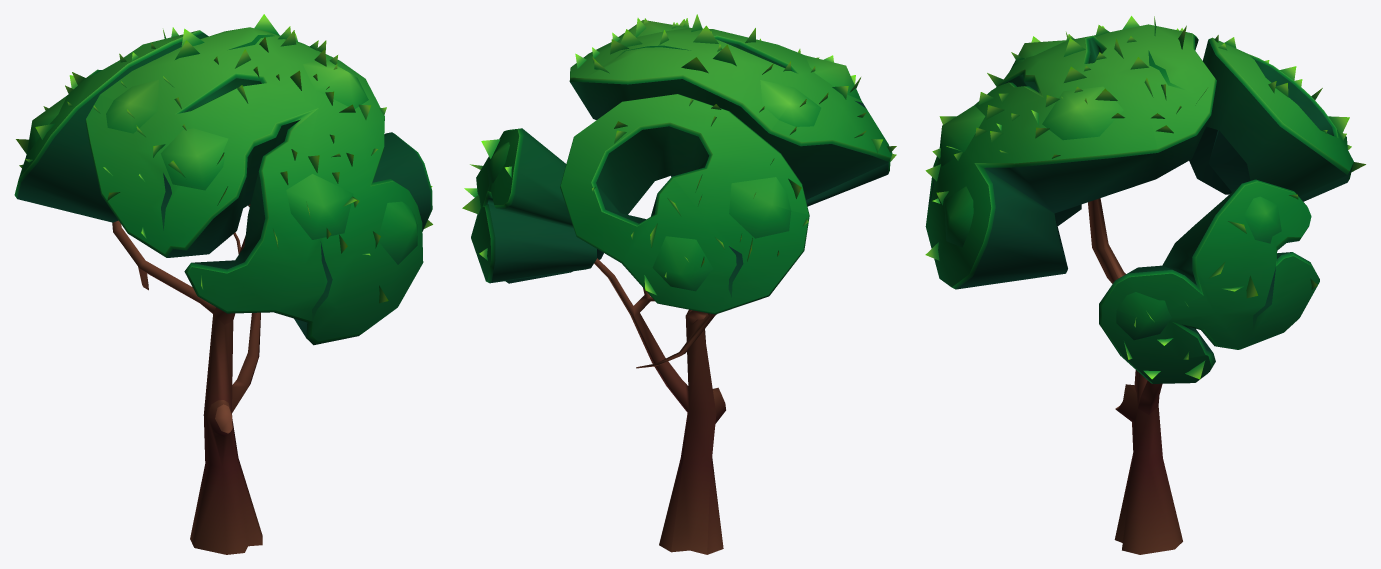
Rendered from Tree_2C.fbx.
The picture shows the model from 3 angles, left to right: view 1: azimuth 30°, elevation 25°; view 2: azimuth 150°, elevation 25°; view 3: azimuth 270°, elevation 25°; orthographic projection.
Visible parts, largest first — view 1: Tree_2C; view 2: Tree_2C; view 3: Tree_2C.
Boxes of the visible parts, bbox=[...] form: Tree_2C: bbox=[14, 14, 432, 554]; Tree_2C: bbox=[462, 14, 896, 554]; Tree_2C: bbox=[925, 16, 1365, 554].
Size of the model in its own units: 7.38 by 9.93 by 7.82.
